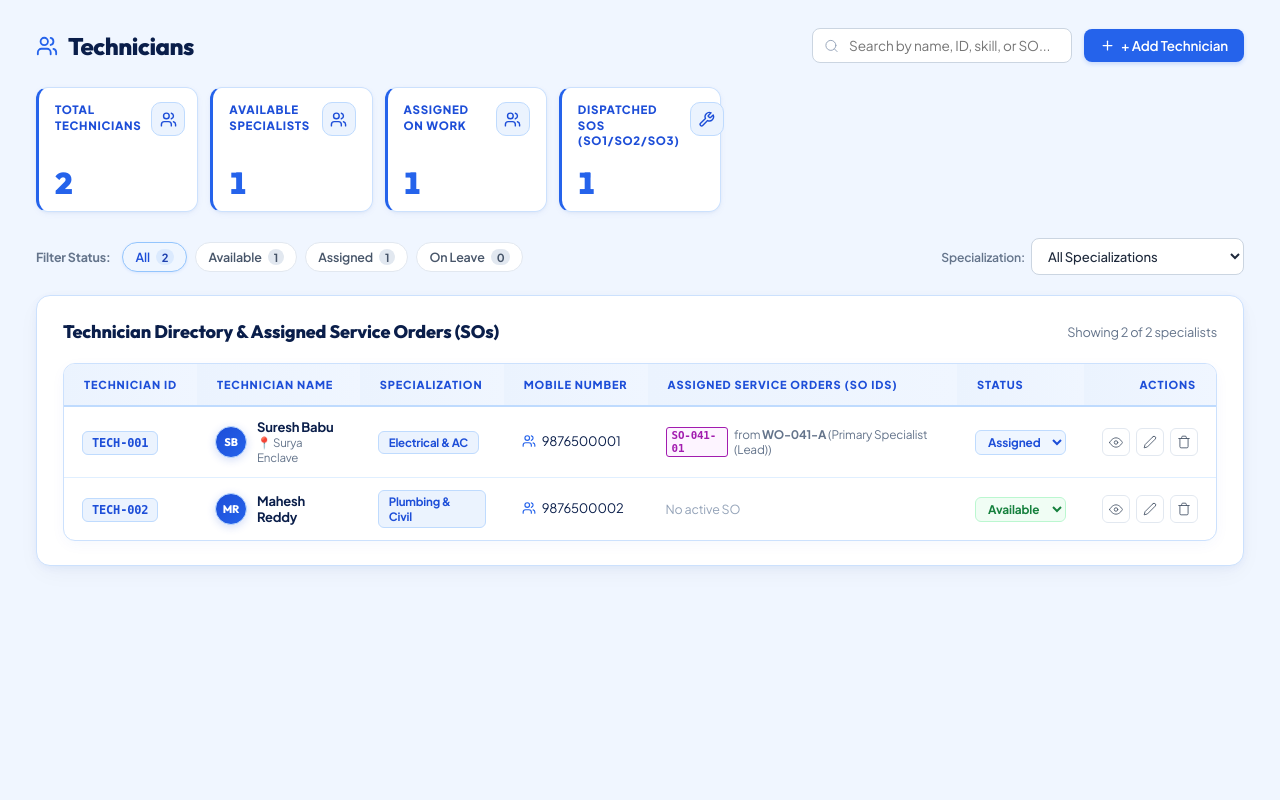
Test: Technicians CRUD Operations & Management › performs READ operation: Views specialist profile & dossier modal
Click View profile button for Suresh Babu
Step 1. Click the button titled "View Specialist Profile" → (1116, 442), box [1102,428,1130,456]
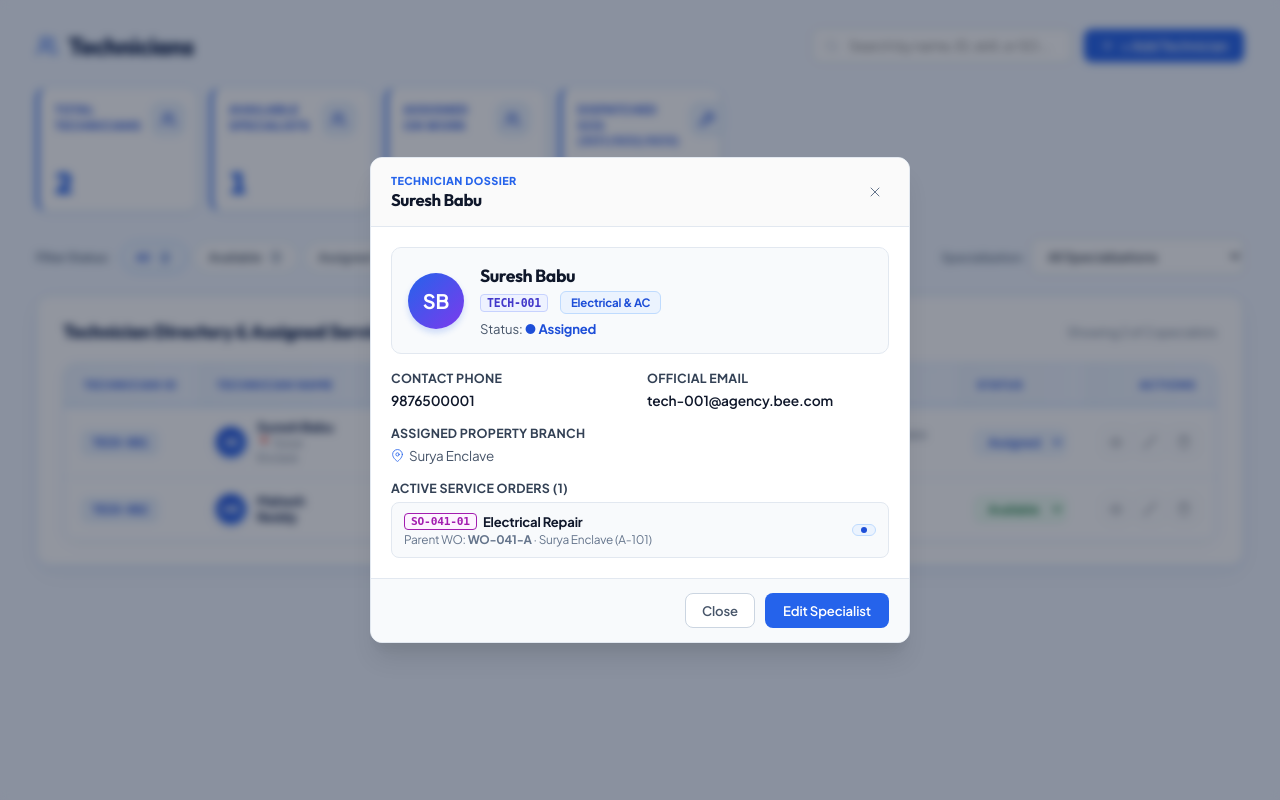
Check: the text "Suresh Babu" is shown, box [257,419,334,435]
Check: the text "TECHNICIAN DOSSIER" is shown, box [391,174,517,187]
